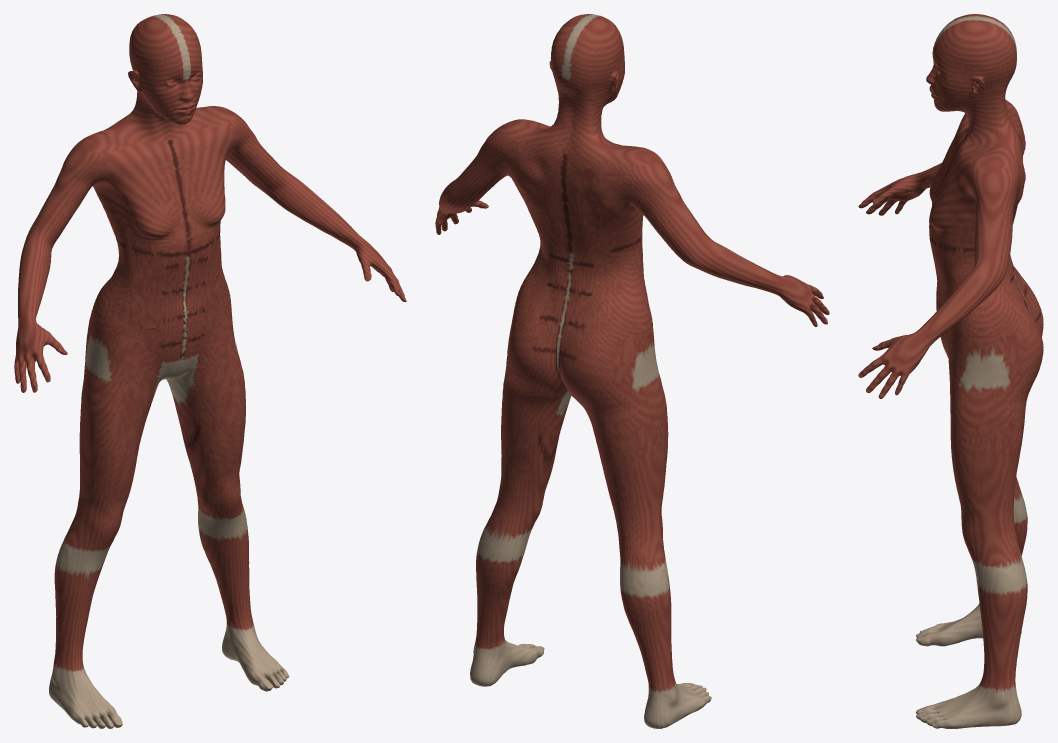
Rendered from lab-muscles-v4-ultra.glb.
The picture shows the model from 3 angles, left to right: view 1: azimuth 30°, elevation 25°; view 2: azimuth 150°, elevation 25°; view 3: azimuth 270°, elevation 25°; orthographic projection.
Visible parts, largest first — view 1: part-muscles-continuous-study; view 2: part-muscles-continuous-study; view 3: part-muscles-continuous-study.
Boxes of the visible parts, left/top/right/bottom form: part-muscles-continuous-study: left=14, top=14, right=406, bottom=728; part-muscles-continuous-study: left=435, top=14, right=829, bottom=728; part-muscles-continuous-study: left=858, top=14, right=1043, bottom=728.
Bounding box in the file's own units: 104 × 175 × 44.14.
